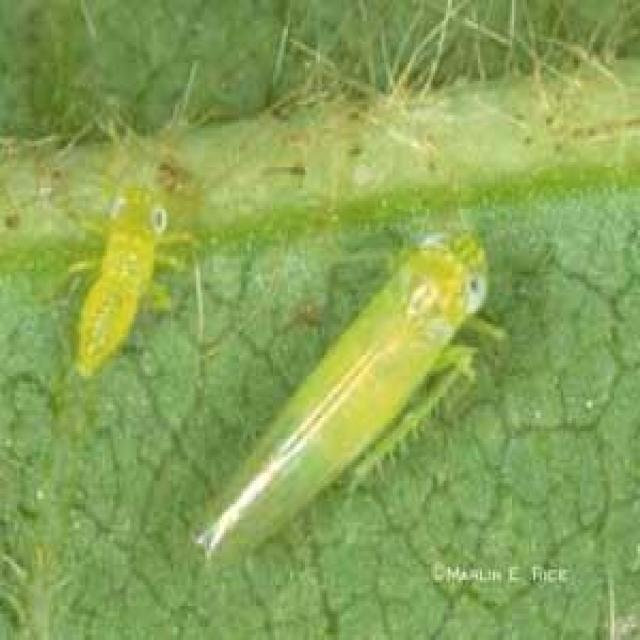Yechan: (188, 230, 516, 588)
